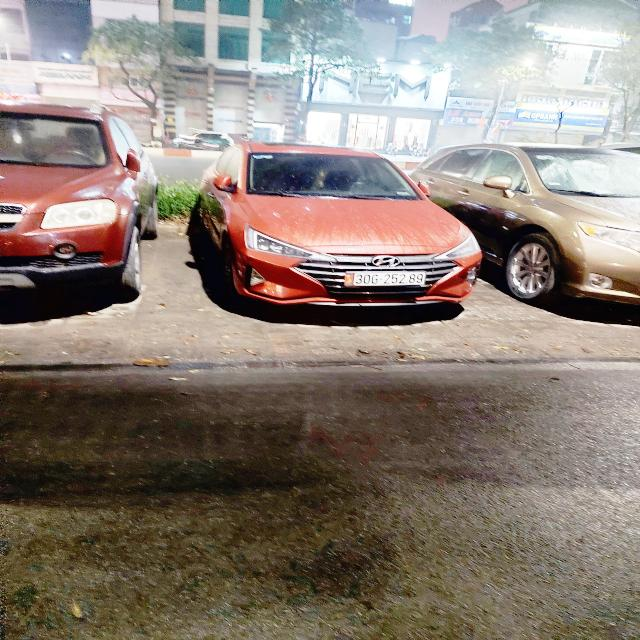license_plate: (343, 272, 429, 287)
